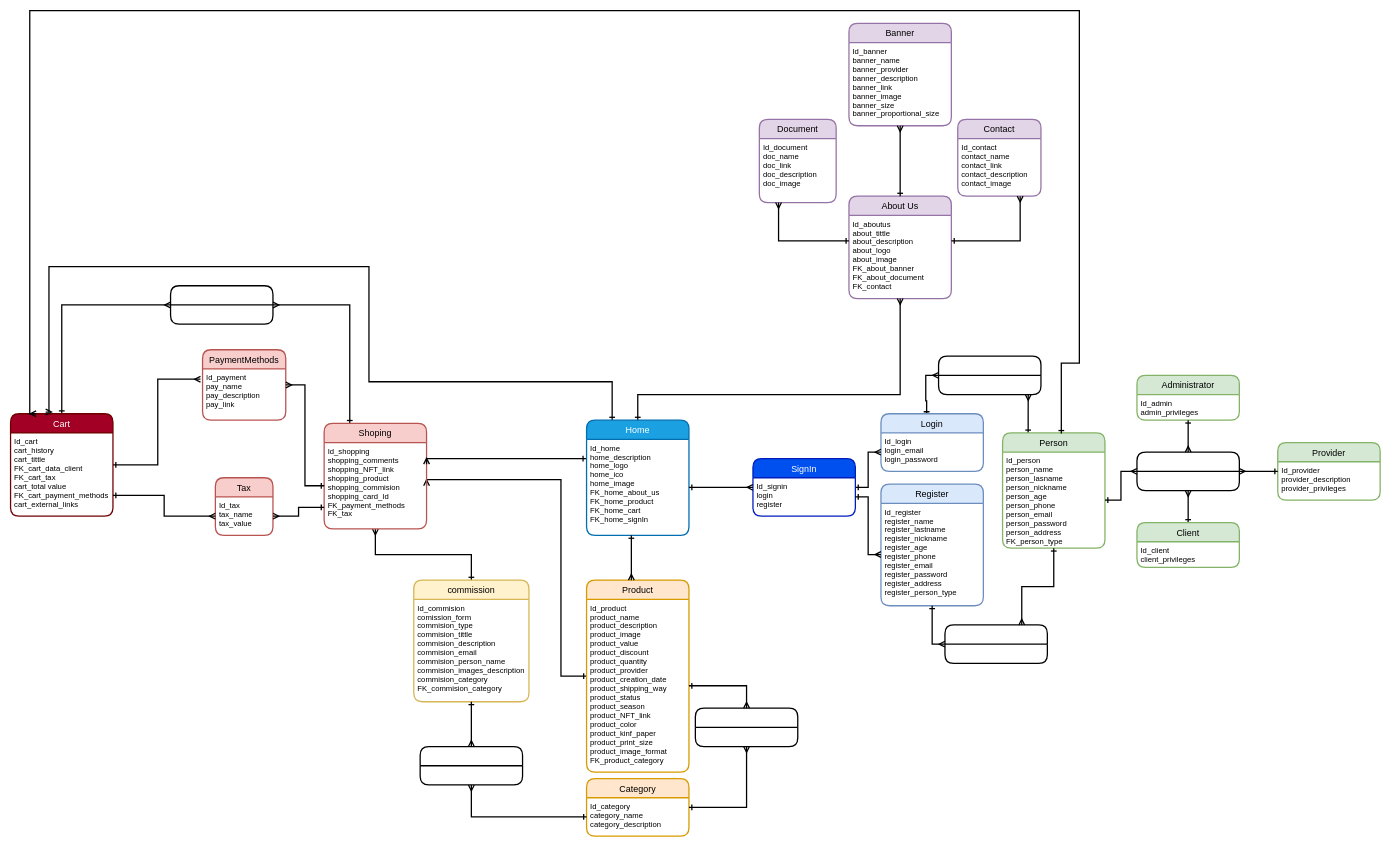
The diagram is 1391 pixels wide and 847 high, and some of its shapes have lost their labels. Here are the shapes that lost their labels. From the top down, the centre of each, then its label:
point (221, 304): ShoppingCart
point (989, 375): LoginPerson
point (1188, 471): PersonType
point (996, 644): RegisterPerson
point (746, 727): ProductCategory
point (471, 765): CommisionCategory
